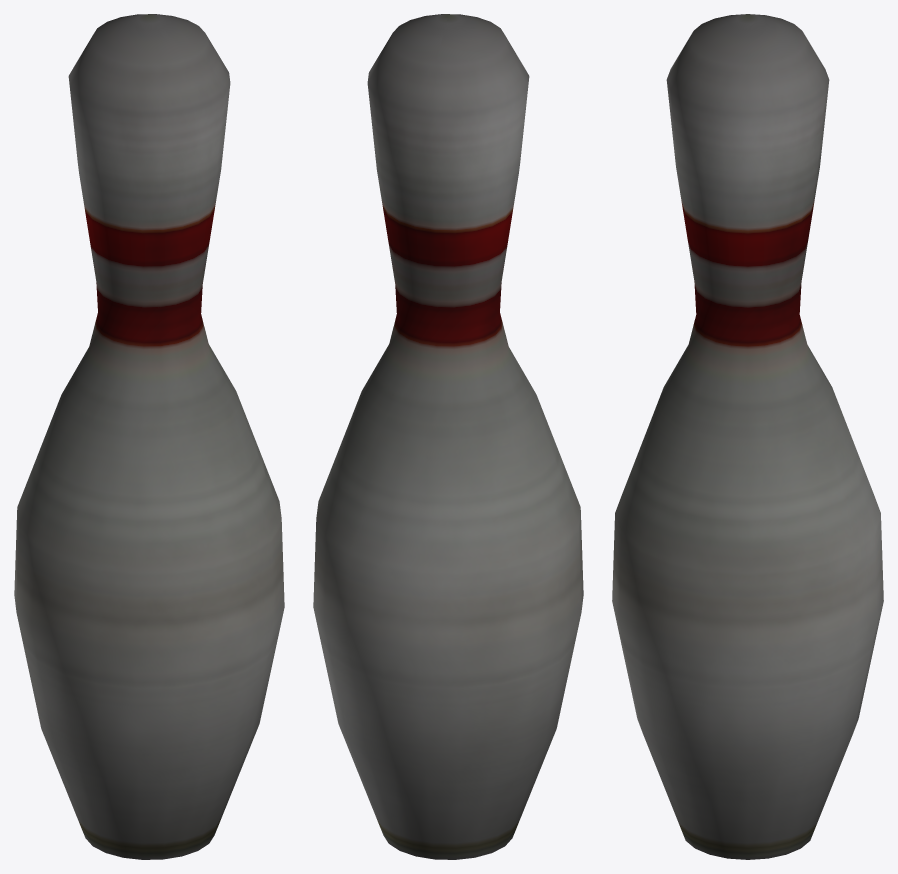
File: PinDefoult_hi.fbx
The picture shows the model from 3 angles, left to right: view 1: azimuth 30°, elevation 25°; view 2: azimuth 150°, elevation 25°; view 3: azimuth 270°, elevation 25°; orthographic projection.
Parts seen in each view (by area): view 1: Kegel1; view 2: Kegel1; view 3: Kegel1.
Boxes of the visible parts, x1,y1,x2,y2 form: Kegel1: [14, 14, 284, 859]; Kegel1: [313, 14, 583, 859]; Kegel1: [612, 14, 883, 859].
Size of the model in its own units: 0.0224 by 0.0744 by 0.0224.
